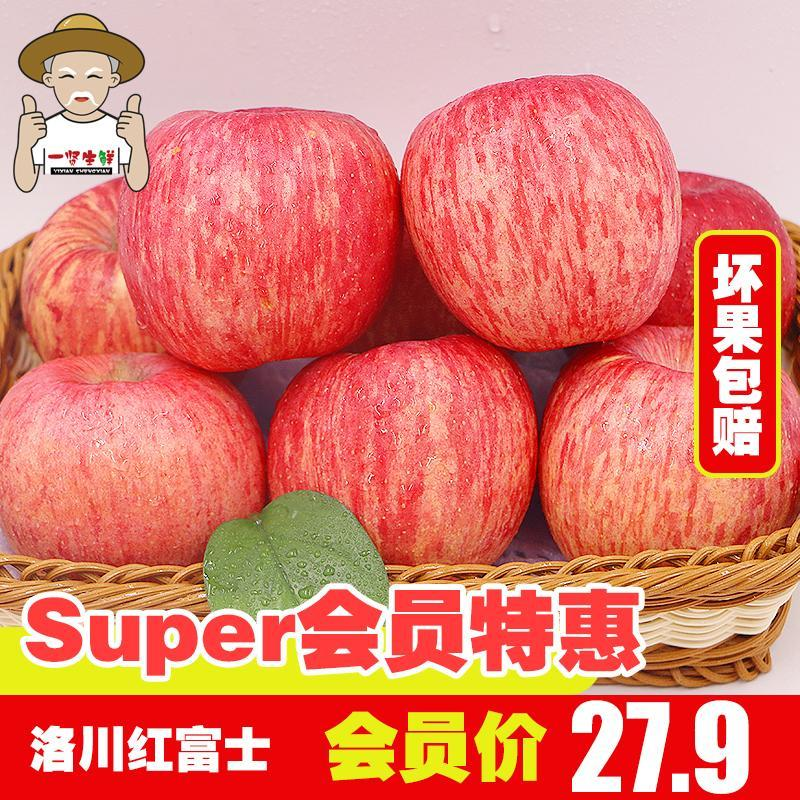apple: (400, 73, 679, 347), (121, 107, 405, 376), (263, 334, 536, 567), (539, 324, 800, 554), (3, 355, 267, 566), (22, 178, 177, 362)
